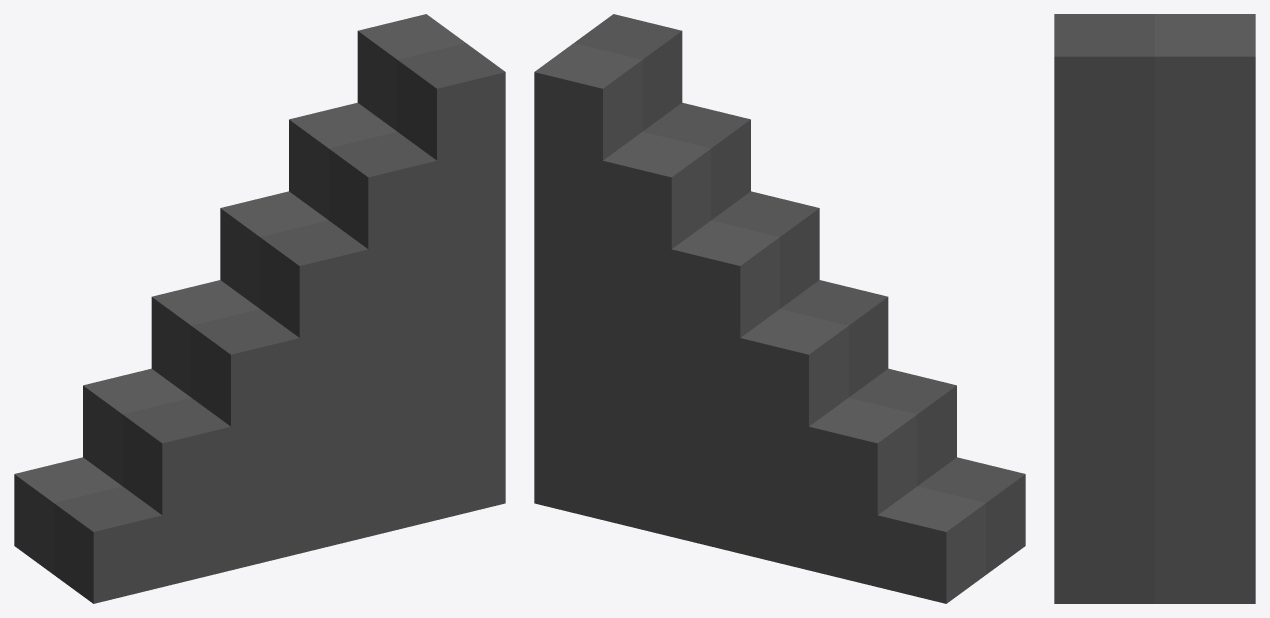
Rendered from stonetxt3.fbx.
3 views of the same model, side by side, from view 1: azimuth 30°, elevation 25°; view 2: azimuth 150°, elevation 25°; view 3: azimuth 270°, elevation 25° (orthographic). The views are drawn at different scales.
Visible parts, largest first — view 1: stonetxt3; view 2: stonetxt3; view 3: stonetxt3.
Part boxes in pixels (x1,y1,x2,y2): stonetxt3: (14,14,505,603); stonetxt3: (534,14,1025,603); stonetxt3: (1054,14,1255,603).
Bounding box in the file's own units: 6 × 6 × 2.
1 material, 1 textured.
